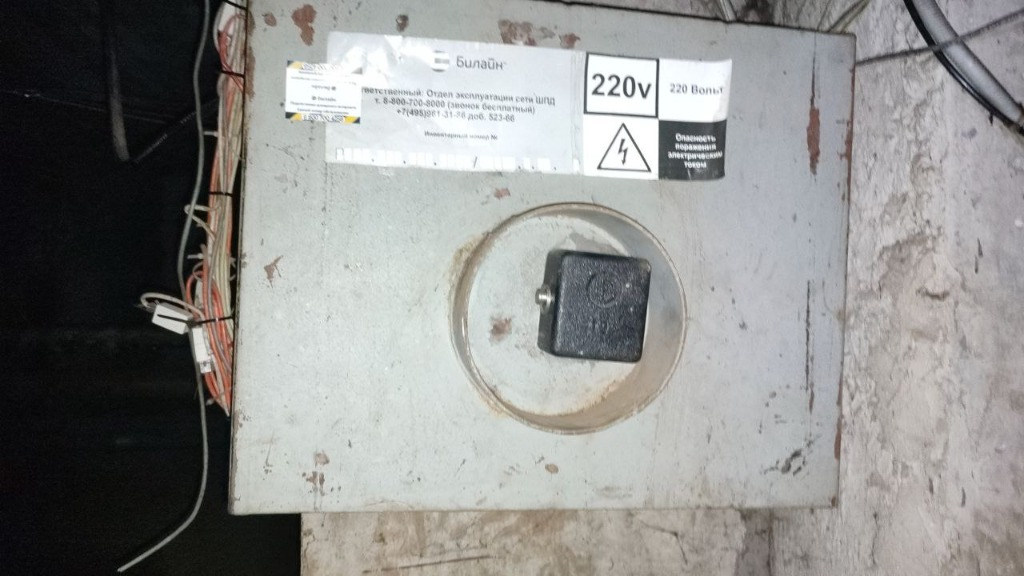shta-3: (229, 4, 858, 516)
